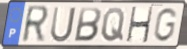B: (72, 7, 103, 43)
G: (152, 7, 179, 43)
H: (125, 6, 155, 44)
Q: (100, 6, 126, 43)
R: (20, 4, 51, 45)
U: (49, 6, 78, 44)
